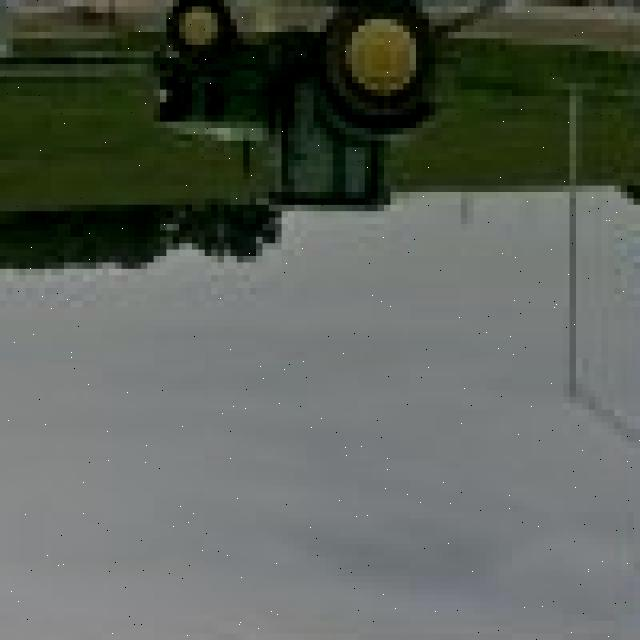Tratores - v5 YOLO V8L 2024-11-13: (141, 0, 448, 231)
